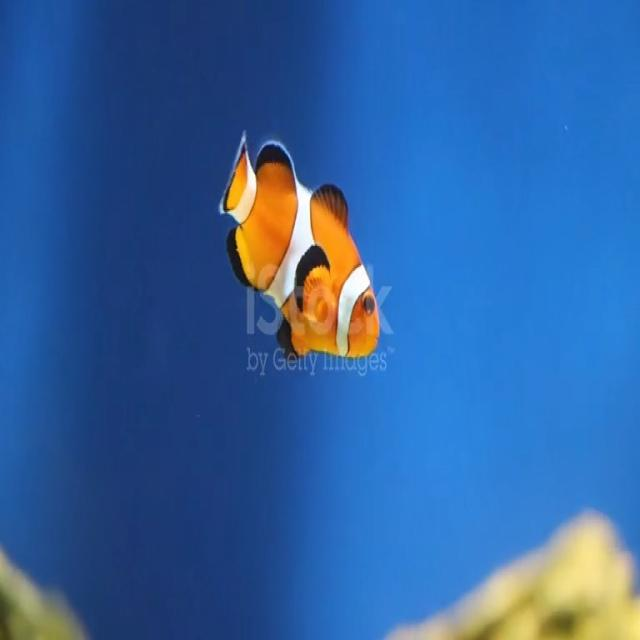fish: (220, 124, 382, 362)
